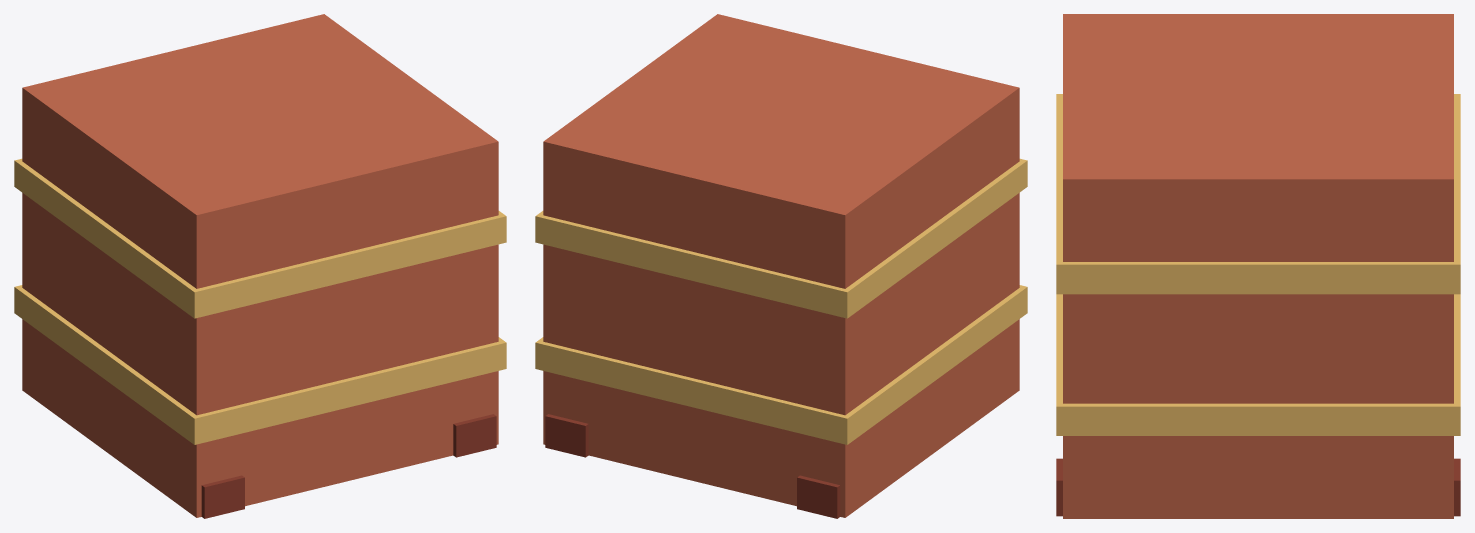
File: crate.glb
The picture shows the model from 3 angles, left to right: view 1: azimuth 30°, elevation 25°; view 2: azimuth 150°, elevation 25°; view 3: azimuth 270°, elevation 25°; orthographic projection. The views are drawn at different scales.
Visible parts, largest first — view 1: CrateBody, CrateStrap0, CrateStrap1, CrateFootL, CrateFootR; view 2: CrateBody, CrateStrap0, CrateStrap1, CrateFootL, CrateFootR; view 3: CrateBody, CrateStrap1, CrateStrap0, CrateFootR.
Part boxes in pixels (bbox=[...]): CrateBody: bbox=[22, 14, 498, 517]; CrateStrap0: bbox=[14, 285, 506, 444]; CrateStrap1: bbox=[14, 158, 506, 318]; CrateFootL: bbox=[201, 475, 244, 518]; CrateFootR: bbox=[453, 414, 496, 457]; CrateBody: bbox=[543, 14, 1019, 517]; CrateStrap0: bbox=[535, 285, 1027, 444]; CrateStrap1: bbox=[535, 158, 1027, 318]; CrateFootL: bbox=[797, 475, 840, 518]; CrateFootR: bbox=[545, 414, 588, 457]; CrateBody: bbox=[1063, 14, 1453, 518]; CrateStrap1: bbox=[1056, 94, 1460, 294]; CrateStrap0: bbox=[1056, 294, 1460, 435]; CrateFootR: bbox=[1056, 458, 1460, 516].
Size of the model in its own units: 1.24 by 1.15 by 1.24.
